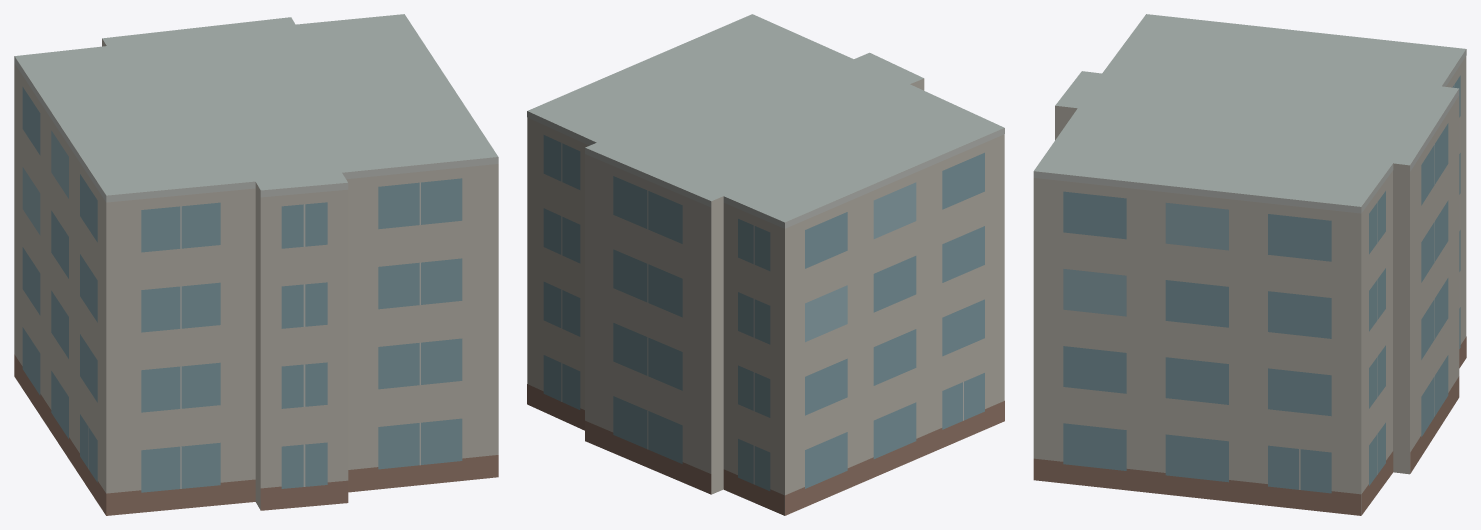
Rendered from survey-upis-32954368.glb.
3 views of the same model, side by side, from view 1: azimuth 30°, elevation 25°; view 2: azimuth 150°, elevation 25°; view 3: azimuth 270°, elevation 25° (orthographic). The views are drawn at different scales.
Visible parts, largest first — view 1: survey-upis-32954368.tmp; view 2: survey-upis-32954368.tmp; view 3: survey-upis-32954368.tmp.
Part boxes in pixels (box(x1,y1,x2,y2)): survey-upis-32954368.tmp: box(14, 14, 498, 515); survey-upis-32954368.tmp: box(527, 14, 1004, 515); survey-upis-32954368.tmp: box(1033, 14, 1466, 515).
Size of the model in its own units: 15.07 by 11.25 by 14.29.
